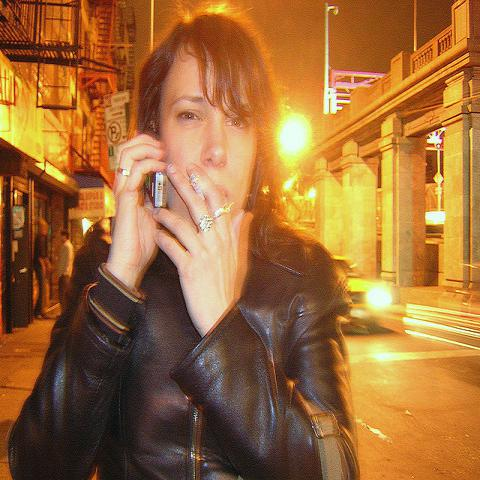car: (330, 255, 402, 318)
